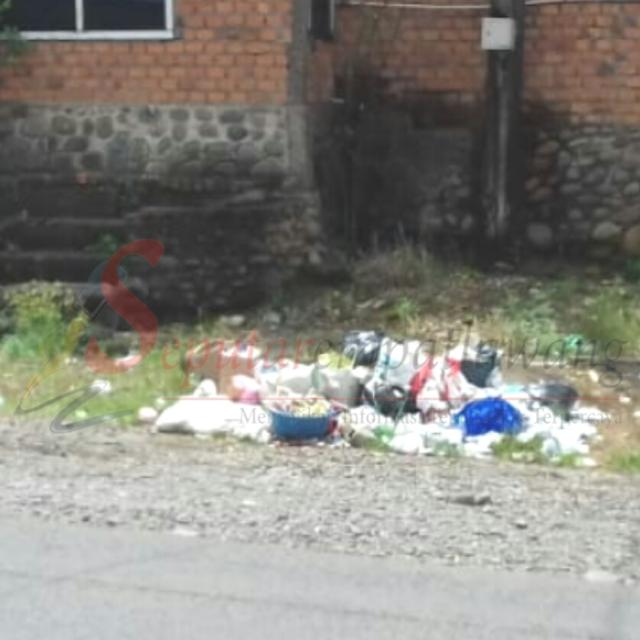trash: (173, 283, 622, 515)
